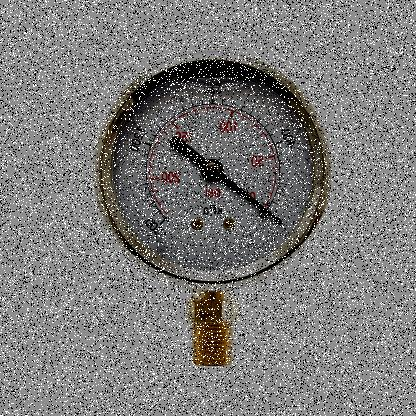needle: (219, 173, 282, 224)
